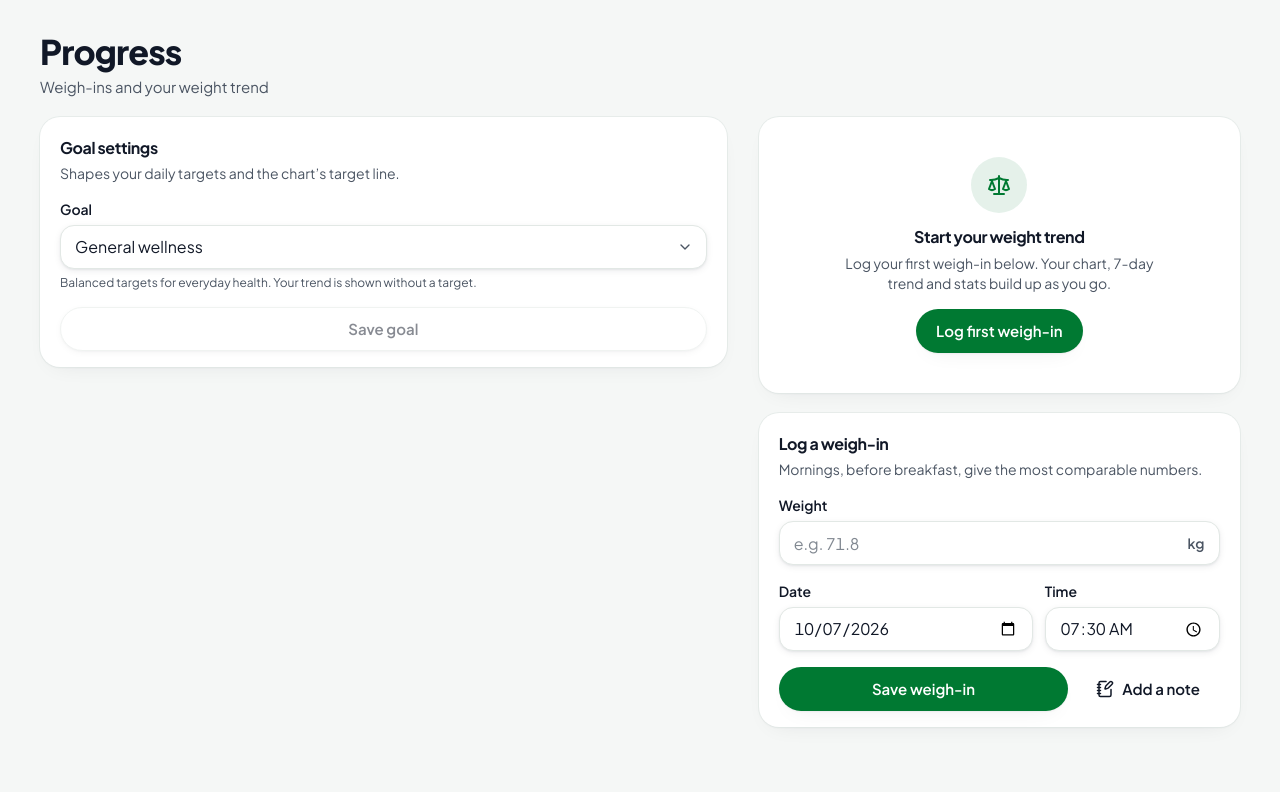
Test: Progress: logging a weigh-in › logs an earlier day with its own date and time
Expected: the heading "Log a weigh-in" is shown, [779,433,888,454]
Step 1. Type "70.4" into the field labelled "Weight" → x=999, y=543, box [779,521,1220,565]
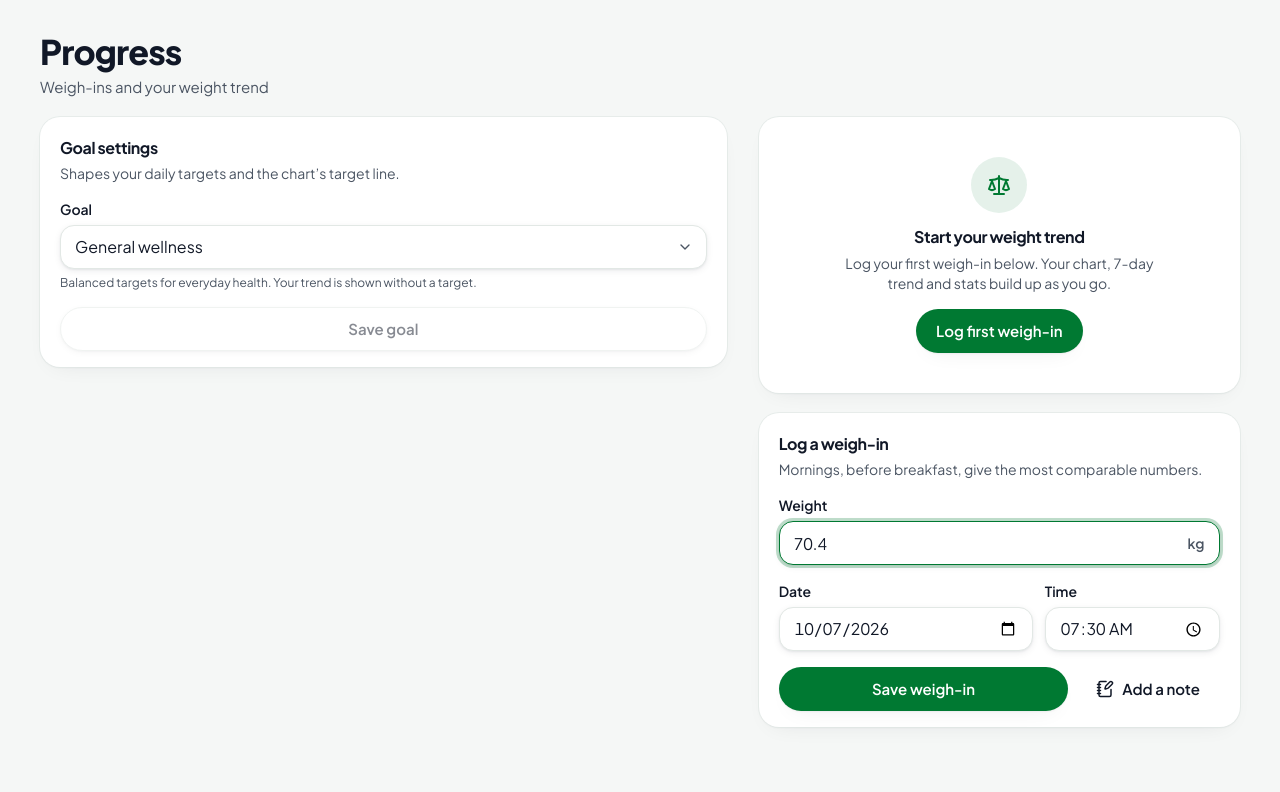
Step 2. Type "2026-10-05" into the date field labelled "Date" → x=906, y=629, box [779,607,1033,651]
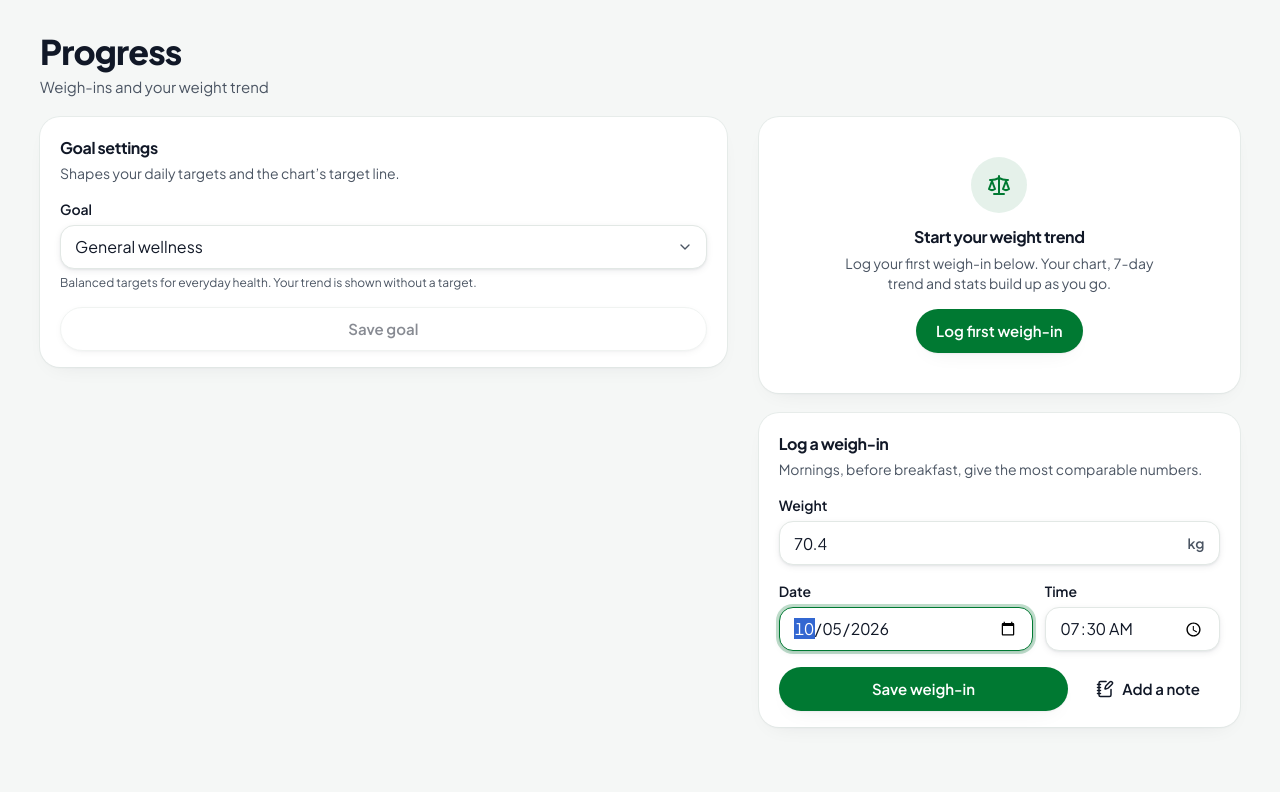
Step 3. Replace the text in the time field labelled "Time" with "06:45" → x=1132, y=629, box [1045,607,1220,651]
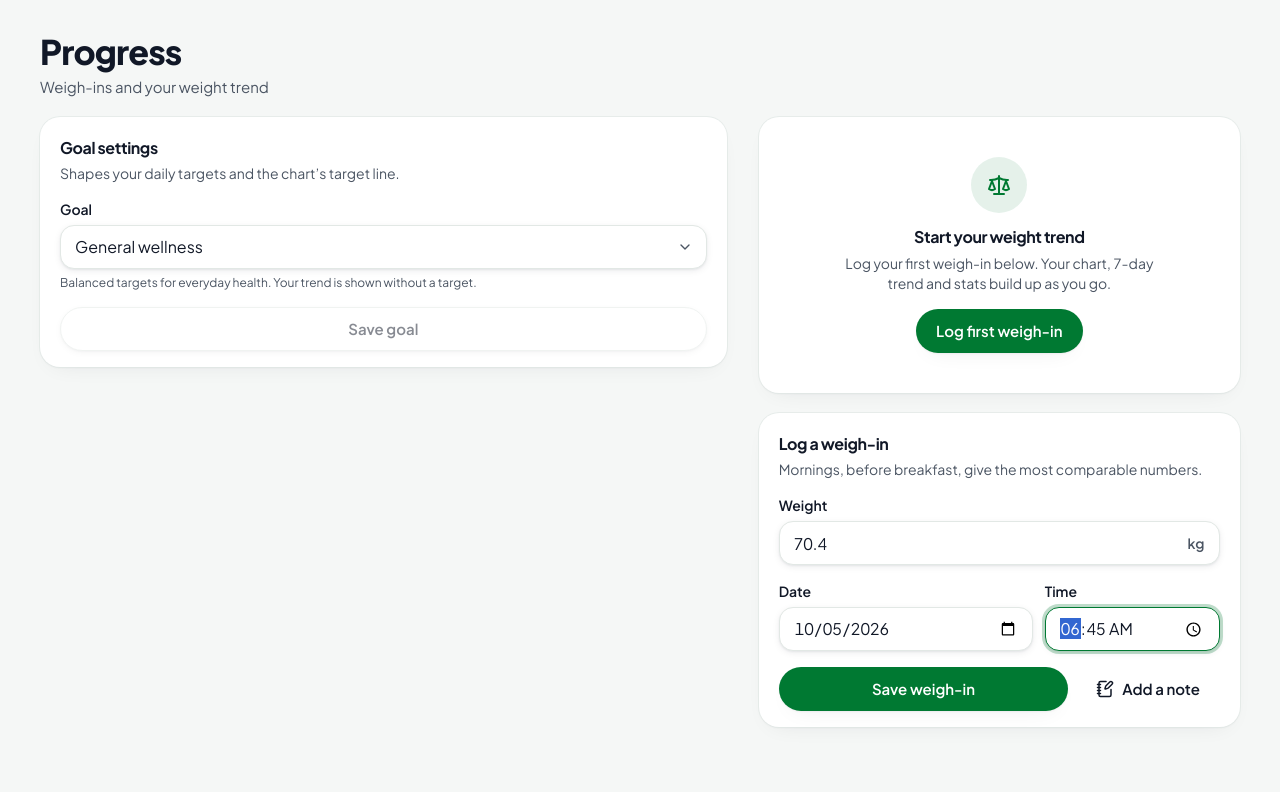
Step 4. Click the button "Save weigh-in" → x=924, y=689, box [779,667,1068,711]
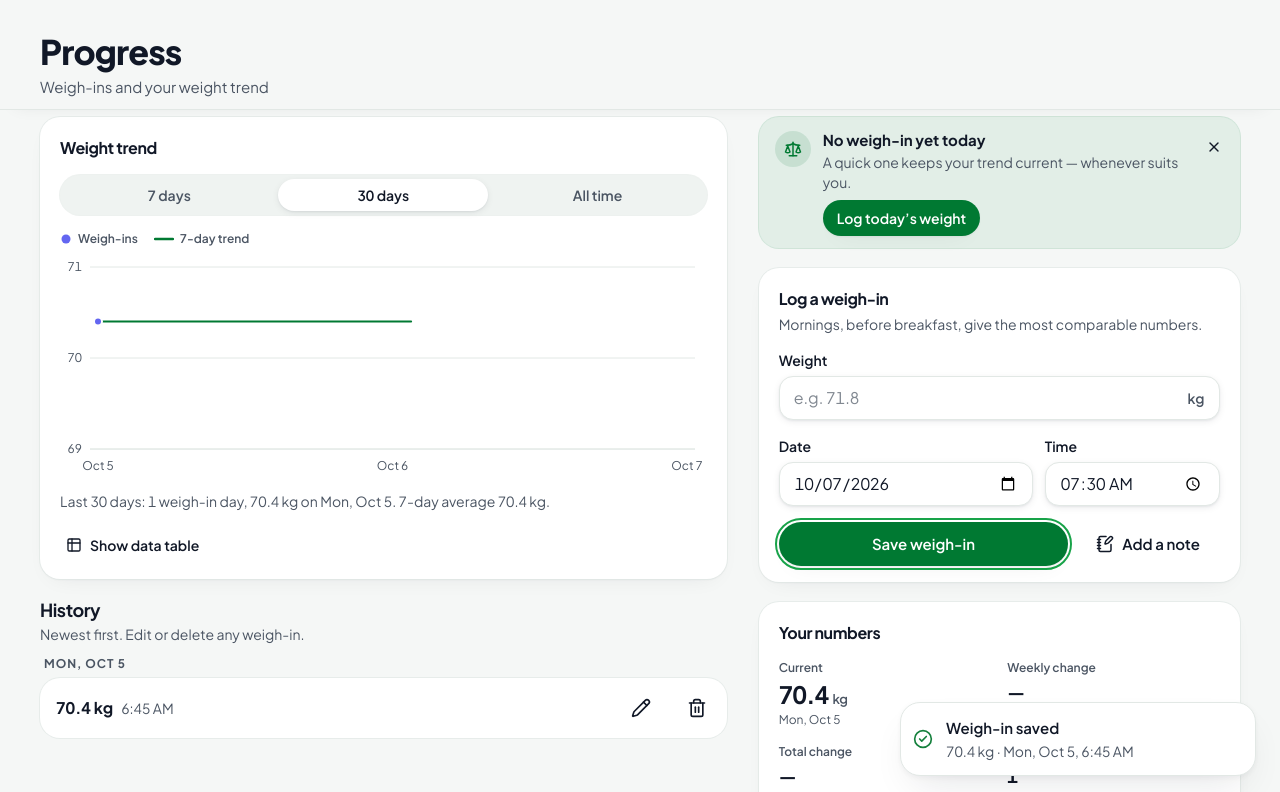
Expected: the text "70.4 kg · Mon, Oct 5, 6:45 AM" is shown, [946,741,1134,761]
Expected: the text "6:45 AM" is shown, [121,698,174,718]
